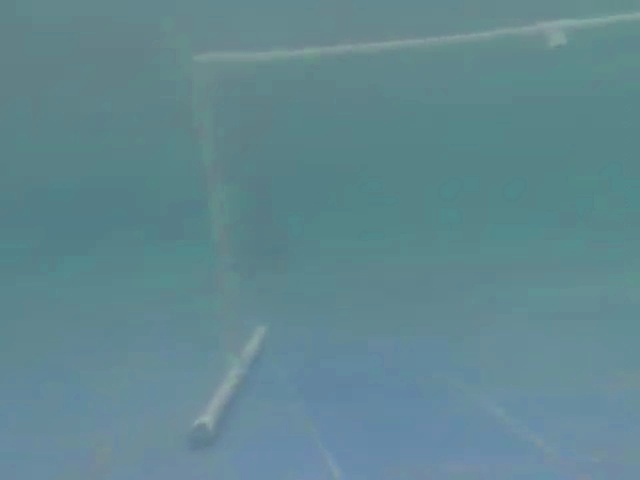gate: (146, 5, 640, 480)
